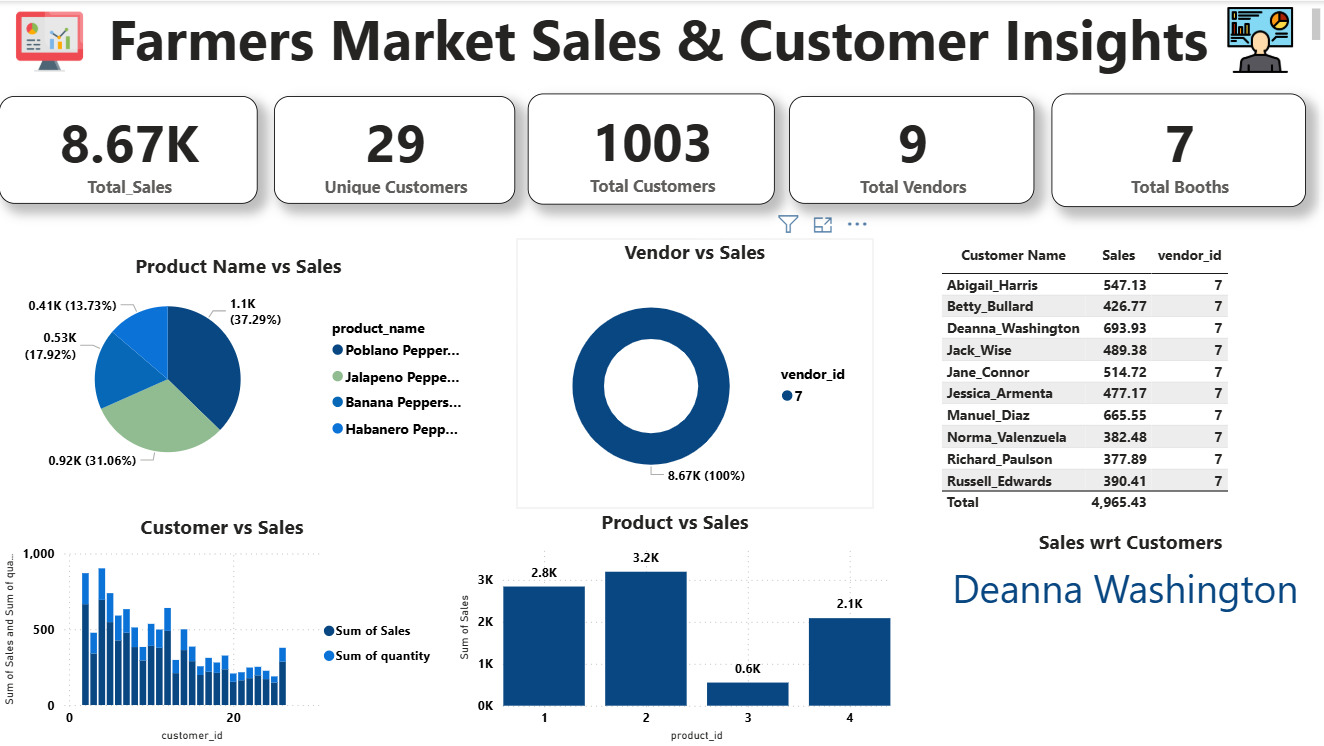

Layout of this report page (visuals, bound fields, positions):
{"tool":"powerbi","page":{"name":"Duplicate of Sales Wise Analysis","canvas":[1280,720],"ordinal":2},"visuals":[{"type":"columnChart","title":"Customer vs Sales","fields":{"Category":["customer_purchases.customer_id"],"Y":["Sum(customer_purchases.Sales)","Sum(customer_purchases.quantity)"]},"box":[0,494.9,430.5,224.9],"z":0},{"type":"clusteredColumnChart","title":"Product vs Sales","fields":{"Category":["product.product_id"],"Y":["Sum(customer_purchases.Sales)"]},"box":[438.7,489.5,426.4,230.3],"z":1000},{"type":"pieChart","title":"Product Name vs Sales","fields":{"Category":["product.product_name"],"Y":["Sum(customer_purchases.quantity)"]},"box":[0,242.7,462,220.7],"z":2000},{"type":"donutChart","title":"Vendor vs Sales","fields":{"Category":["customer_purchases.vendor_id"],"Y":["Sum(customer_purchases.Sales)"]},"box":[499.1,229,344.1,260.5],"z":3000},{"type":"textbox","box":[0,0,1280.6,75.4],"z":4000},{"type":"image","box":[1153,0,127.5,75.4],"z":5000},{"type":"image","box":[9.7,0,78.4,78.4],"z":6000},{"type":"card","fields":{"Values":["customer_purchases.Total_Sales"]},"box":[0,91.9,249.5,104.2],"z":7000},{"type":"card","fields":{"Values":["Count(customer_purchases.customer_id)"]},"box":[266,91.9,233.1,104.2],"z":8000},{"type":"card","fields":{"Values":["CountNonNull(customer_purchases.customer_id)"]},"box":[510,89.1,238.6,106.9],"z":9000},{"type":"card","fields":{"Values":["Count(vendor.vendor_id)"]},"box":[762.3,91.9,237.2,104.2],"z":10000},{"type":"card","fields":{"Values":["Count(vendor_booth_assignments.booth_number)"]},"box":[1015.9,89.1,245.4,109.7],"z":11000},{"type":"tableEx","fields":{"Values":["customer.Customer_FUll_Name","Sum(customer_purchases.Sales)","customer_purchases.vendor_id"]},"box":[903.5,229,377,279.7],"z":12000},{"type":"WordCloud1447959067750","title":"Sales wrt Customers","fields":{"Category":["customer.Customer_FUll_Name"],"Values":["customer_purchases.Total_Sales"]},"box":[903.5,508.7,377,211.1],"z":13000}]}

Visuals, with their boxes in screenshot pixels (x1, y1, x2, y2), scaled from the page's 1280x720 canvas onto the 1324x746 screenshot:
"Customer vs Sales" columnChart: 0:513:445:745
"Product vs Sales" clusteredColumnChart: 454:507:895:745
"Product Name vs Sales" pieChart: 0:251:478:480
"Vendor vs Sales" donutChart: 516:237:872:507
textbox: 0:0:1323:78
image: 1193:0:1323:78
image: 10:0:91:81
card - customer_purchases.Total_Sales: 0:95:258:203
card - Count(customer_purchases.customer_id): 275:95:516:203
card - CountNonNull(customer_purchases.customer_id): 528:92:774:203
card - Count(vendor.vendor_id): 789:95:1034:203
card - Count(vendor_booth_assignments.booth_number): 1051:92:1305:206
tableEx - customer.Customer_FUll_Name x Sum(customer_purchases.Sales): 935:237:1323:527
"Sales wrt Customers" WordCloud1447959067750: 935:527:1323:745
